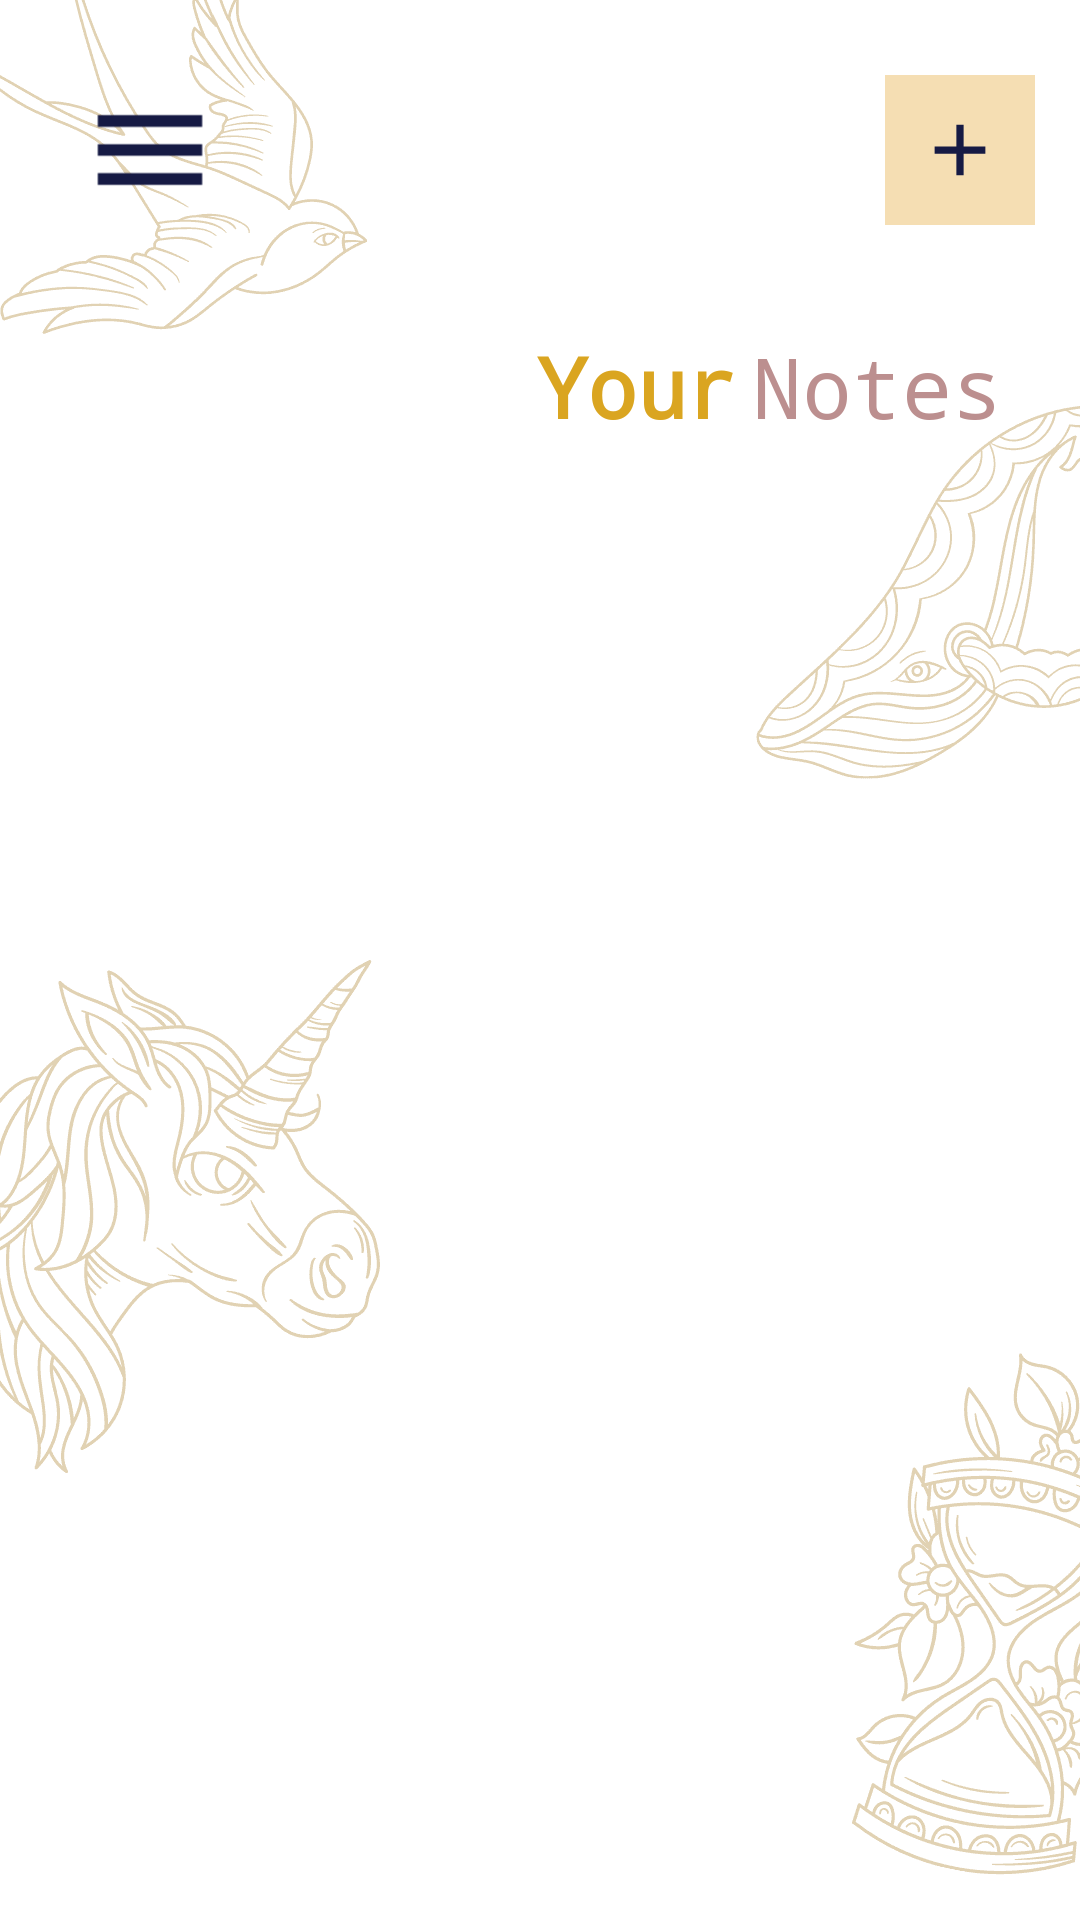

Icons on this 1080w x 1920h Android screen, each with the point to tap as (x,y):
add: (960,150)
